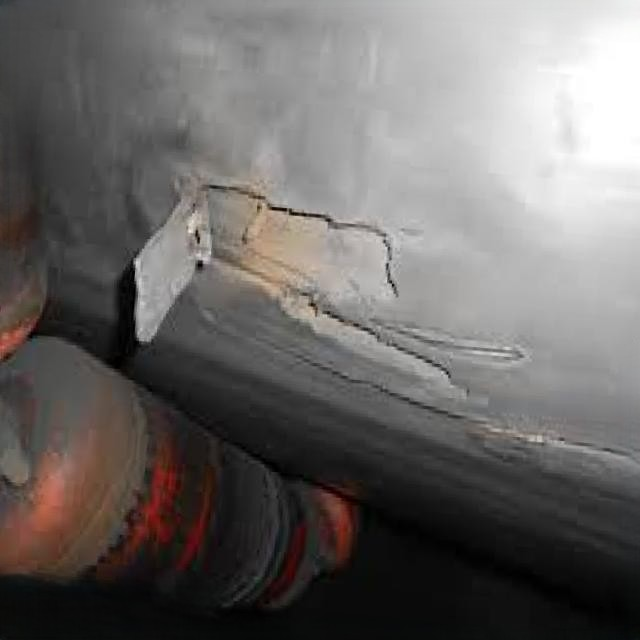Tear: (95, 168, 531, 416)
